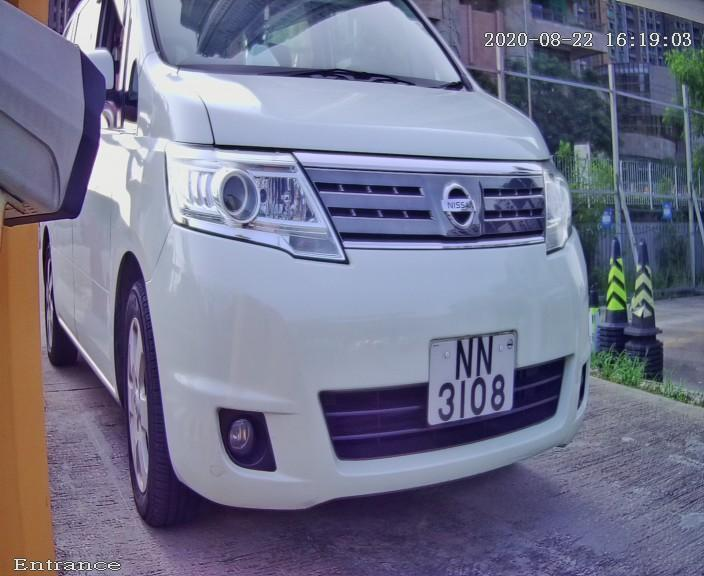License Plate: (422, 317, 522, 438)
